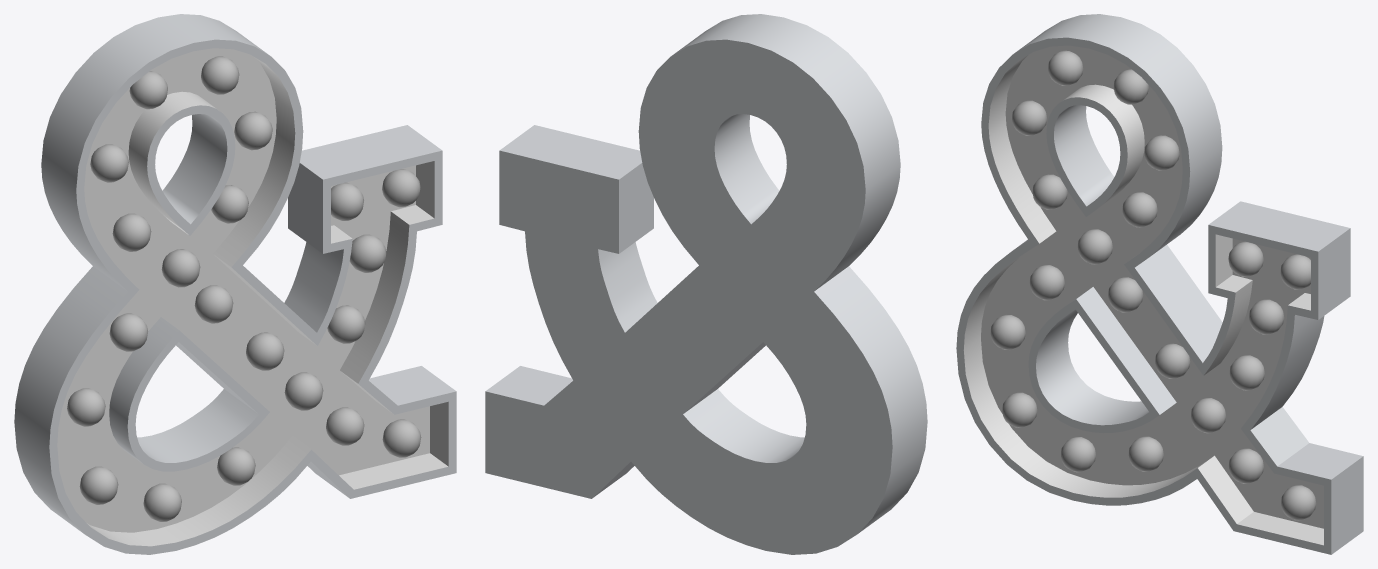
Rendered from LettersBulb01_S3.FBX.
3 renders of one model, left to right at view 1: azimuth 30°, elevation 25°; view 2: azimuth 150°, elevation 25°; view 3: azimuth 330°, elevation 25°, orthographic. The views are drawn at different scales.
Parts seen in each view (by area): view 1: LettersBulb01_S3; view 2: LettersBulb01_S3; view 3: LettersBulb01_S3.
Part boxes in pixels (left/top/right/bottom): LettersBulb01_S3: left=14, top=14, right=456, bottom=554; LettersBulb01_S3: left=485, top=14, right=927, bottom=554; LettersBulb01_S3: left=956, top=14, right=1363, bottom=554.
Size of what is drawn, in the model's own units: 1.05 by 1.24 by 0.1563.
